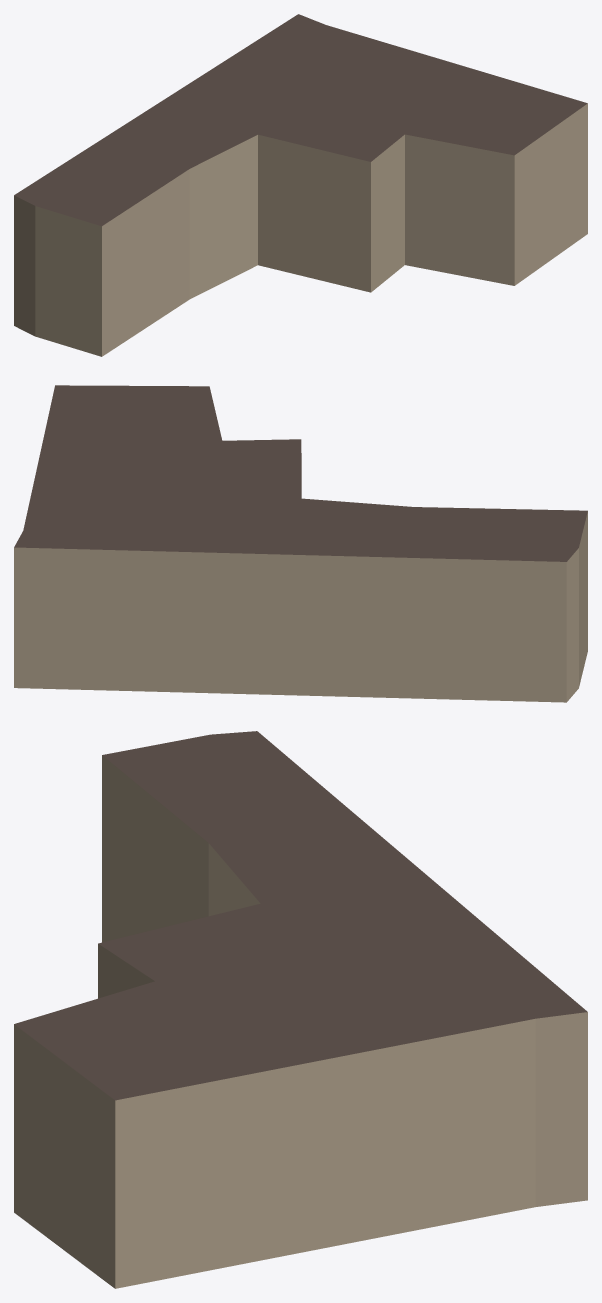
3 views of the same model, one above another, from view 1: azimuth 30°, elevation 25°; view 2: azimuth 150°, elevation 25°; view 3: azimuth 270°, elevation 25° (orthographic). The views are drawn at different scales.
Visible parts, largest first — view 1: HP-w1512481853; view 2: HP-w1512481853; view 3: HP-w1512481853.
Part boxes in pixels (box(x1,y1,x2,y2)): HP-w1512481853: box(14, 14, 587, 356); HP-w1512481853: box(14, 385, 587, 702); HP-w1512481853: box(14, 731, 587, 1288).
Bounding box in the file's own units: 37.84 × 9 × 24.85.
